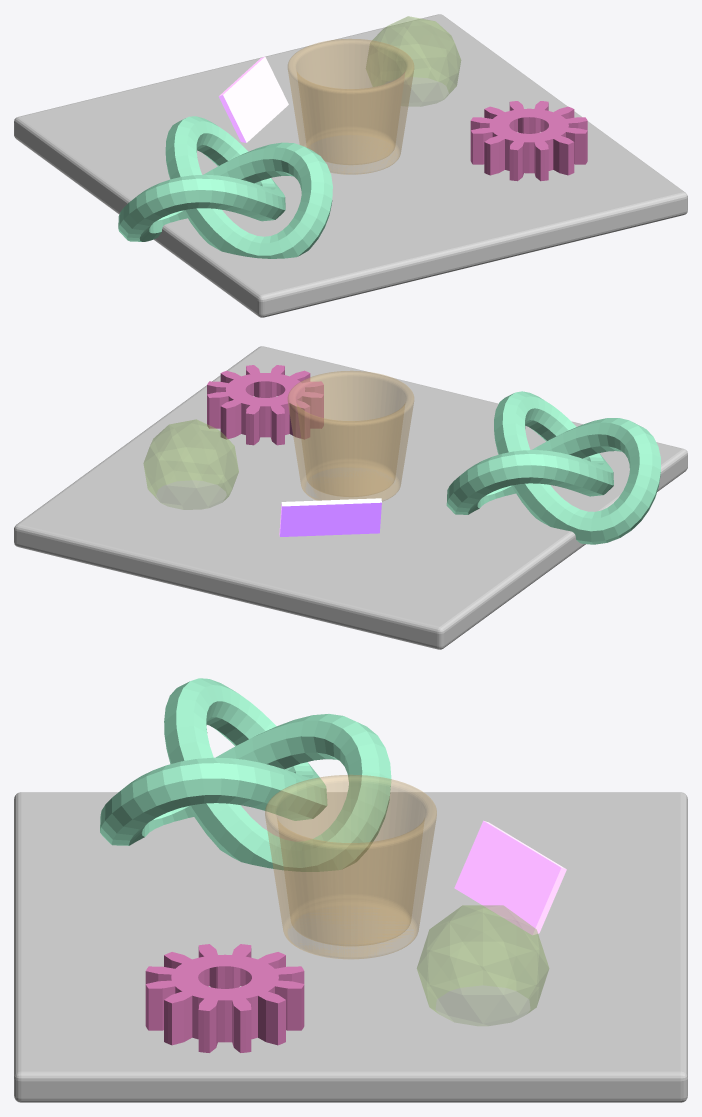
The model's file is cup.glb.
3 renders of one model, top to bottom at view 1: azimuth 30°, elevation 25°; view 2: azimuth 150°, elevation 25°; view 3: azimuth 270°, elevation 25°, orthographic. The views are drawn at different scales.
Parts seen in each view (by area): view 1: Plane, TorusKnot, Cylinder, Gear, Icosphere, Cube; view 2: Plane, TorusKnot, Cylinder, Gear, Icosphere, Cube; view 3: Plane, TorusKnot, Cylinder, Gear, Icosphere, Cube.
Part boxes in pixels (x1,y1,x2,y2): Plane: (14,14,687,317); TorusKnot: (118,116,332,258); Cylinder: (288,39,413,174); Gear: (470,101,587,181); Icosphere: (366,16,460,106); Cube: (218,56,288,142); Plane: (14,346,687,649); TorusKnot: (446,391,660,544); Cylinder: (288,371,413,501); Gear: (207,365,323,445); Icosphere: (143,419,238,509); Cube: (279,498,381,536); Plane: (14,792,687,1102); TorusKnot: (100,678,391,871); Cylinder: (265,775,436,958); Gear: (145,944,304,1052); Icosphere: (417,905,548,1025); Cube: (454,820,566,935).
Size of the model in its own units: 5.59 by 1.43 by 5.
